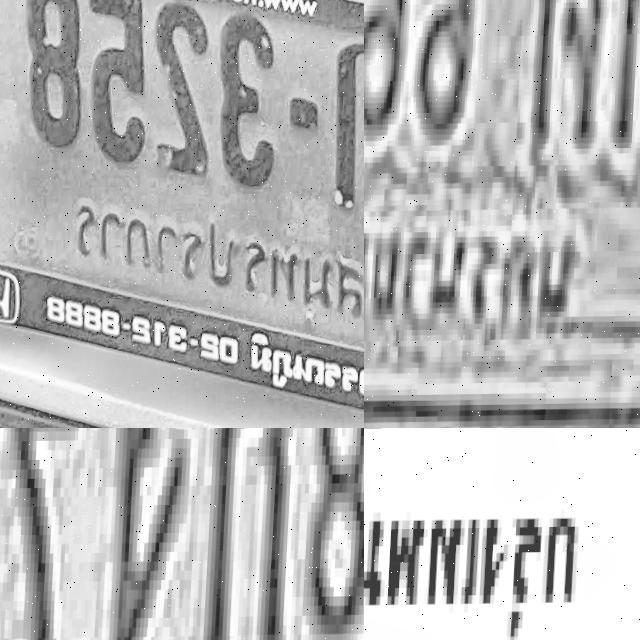license-plate: (0, 0, 364, 428), (364, 0, 640, 428), (0, 428, 364, 640), (364, 428, 640, 640)
